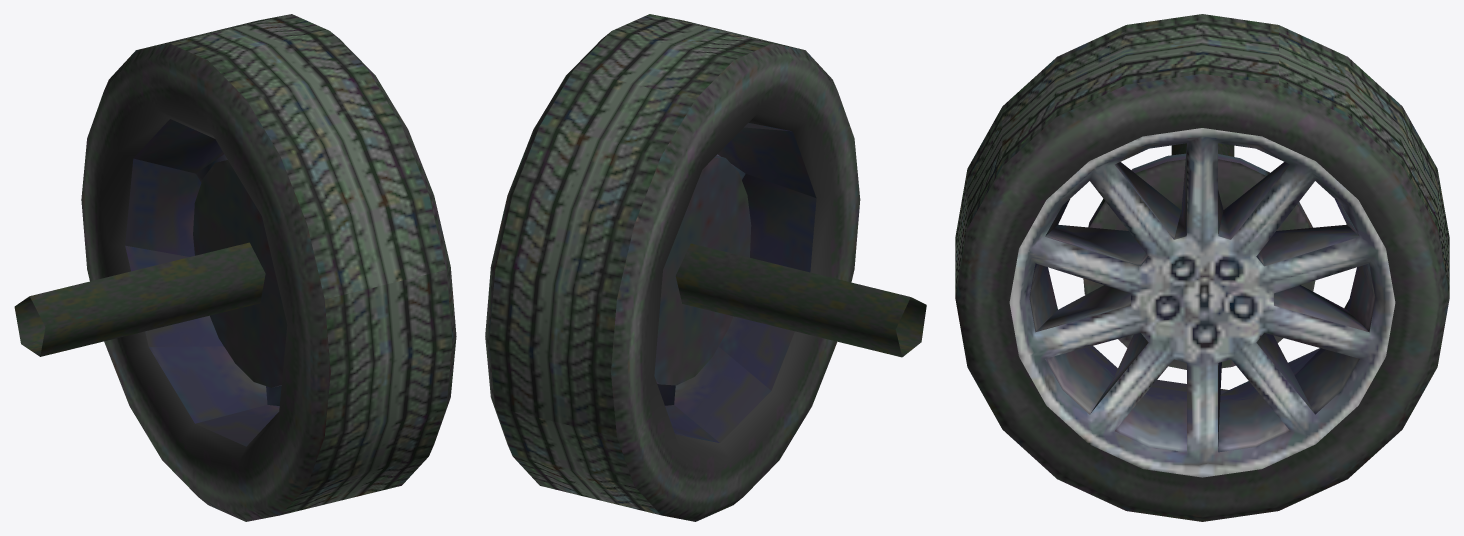
Rendered from wheelFL.dae.
3 views of the same model, side by side, from view 1: azimuth 30°, elevation 25°; view 2: azimuth 150°, elevation 25°; view 3: azimuth 270°, elevation 25° (orthographic).
Visible parts, largest first — view 1: lincoln_exterior_002; view 2: lincoln_exterior_002; view 3: lincoln_exterior_002.
Part boxes in pixels (x1,y1,x2,y2): lincoln_exterior_002: (14, 14, 456, 521); lincoln_exterior_002: (485, 14, 926, 521); lincoln_exterior_002: (955, 14, 1449, 521).
Size of the model in its own units: 1.09 by 1.5 by 1.5.
Materials: 1 (1 with a texture image).
